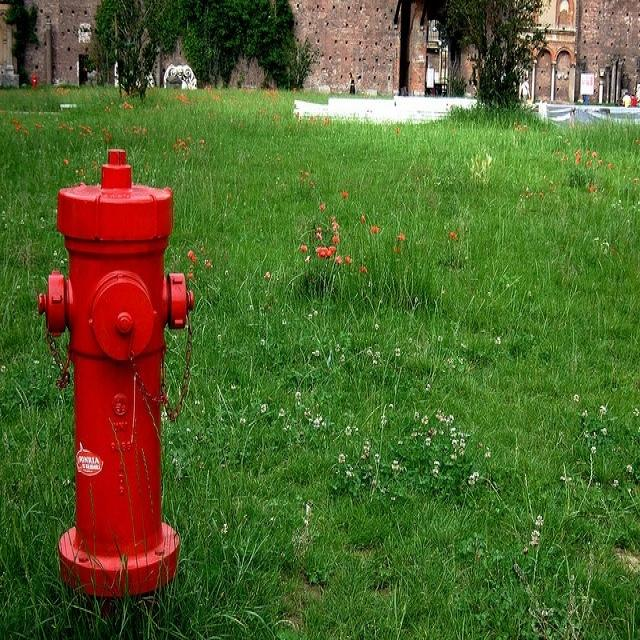fire_hydrant: (17, 127, 261, 621)
